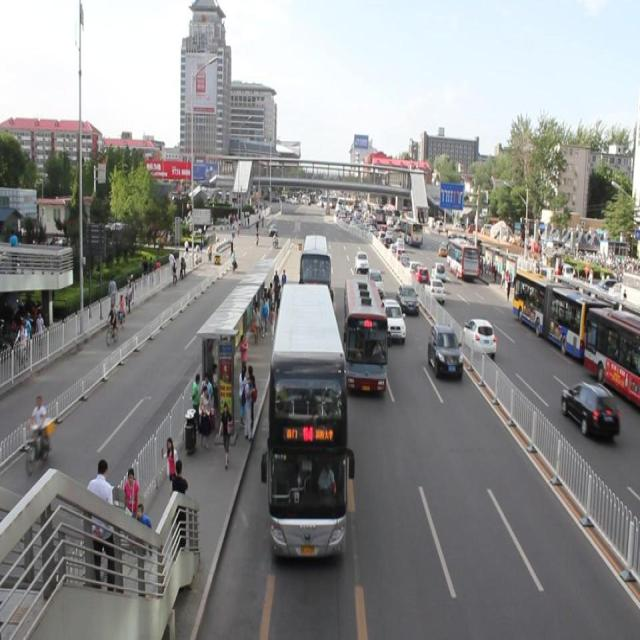car: (426, 322, 464, 387), (377, 296, 406, 343), (394, 284, 421, 315), (364, 266, 385, 296), (353, 248, 369, 274)
van: (260, 283, 358, 570), (337, 276, 391, 400), (296, 230, 335, 306)
